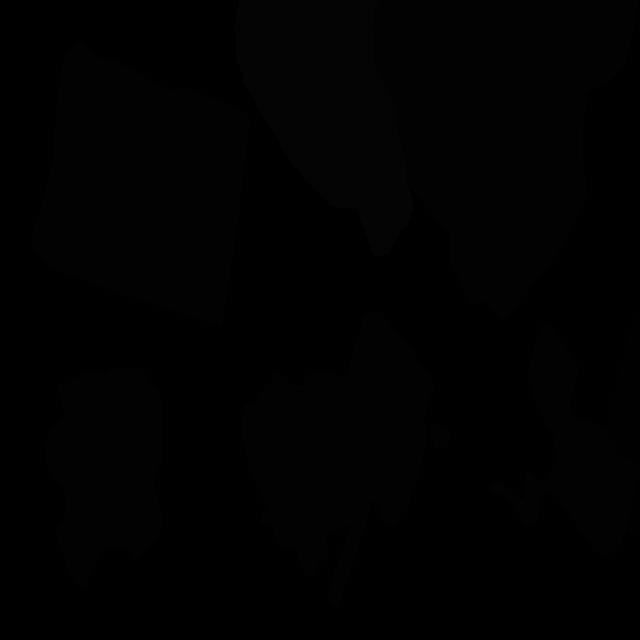cardboard: (373, 0, 640, 323), (30, 41, 250, 327), (242, 310, 435, 610), (490, 321, 640, 560), (44, 367, 164, 588), (430, 423, 452, 450)
rigid_plastic: (604, 293, 640, 542)
soft_plastic: (235, 0, 415, 257)
